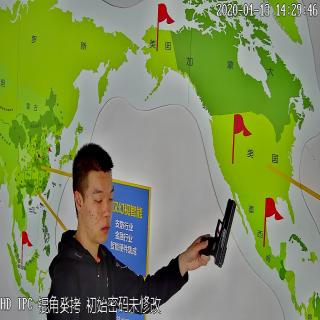gun: (197, 198, 239, 271)
